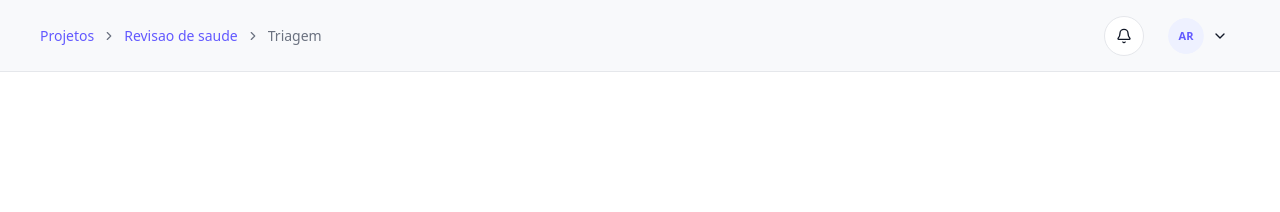
Test: AppHeader › shows the authenticated identity and account actions without a theme control
Expected: the text "AR" is shown, [1168,18,1204,54]
Press the mouse on the button with aria-label "Abrir menu da conta" at (1198, 36), box [1156,16,1240,56]
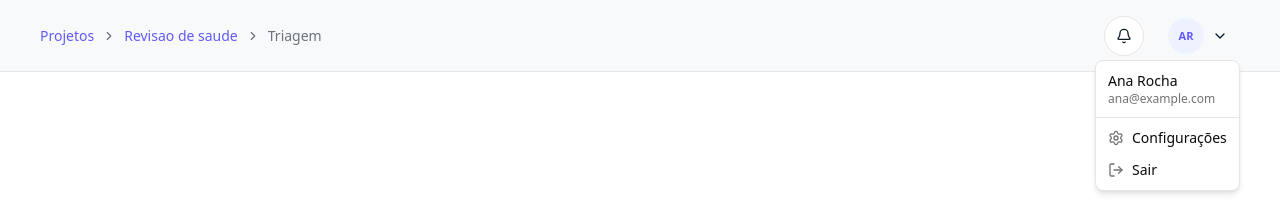
Expected: the text "Ana Rocha" is shown, [1108,71,1178,90]
Expected: the text "ana@example.com" is shown, [1108,91,1227,107]
Expected: the menu item "Configurações" is shown, [1108,128,1227,147]
